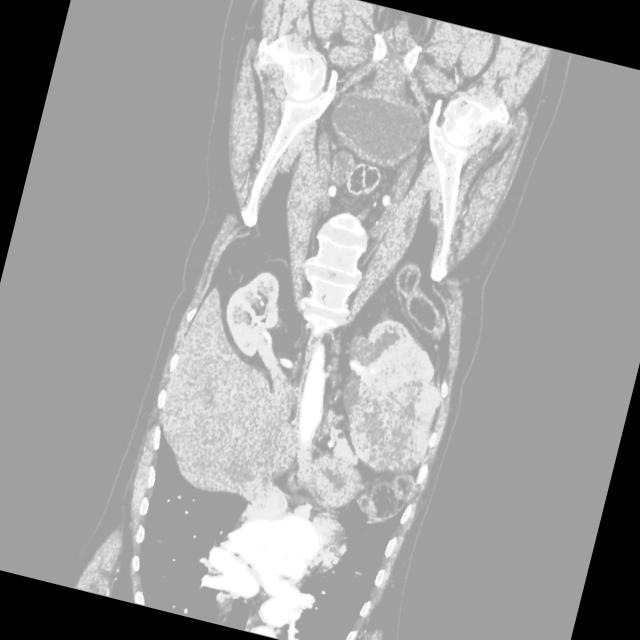TUMOR: (115, 191, 497, 489)
